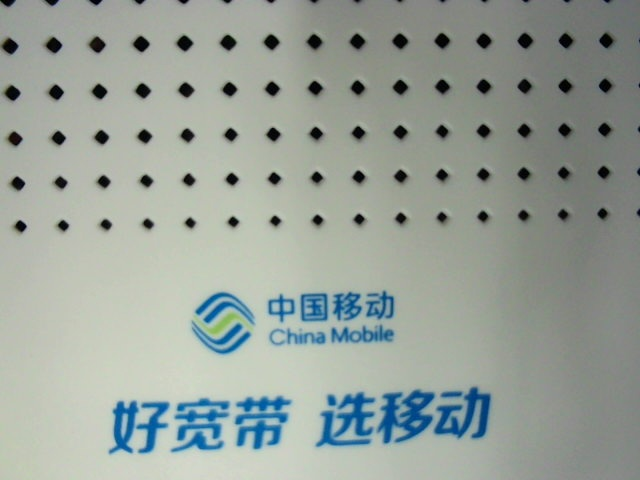AA_ChinaMoble: (91, 287, 512, 460)
